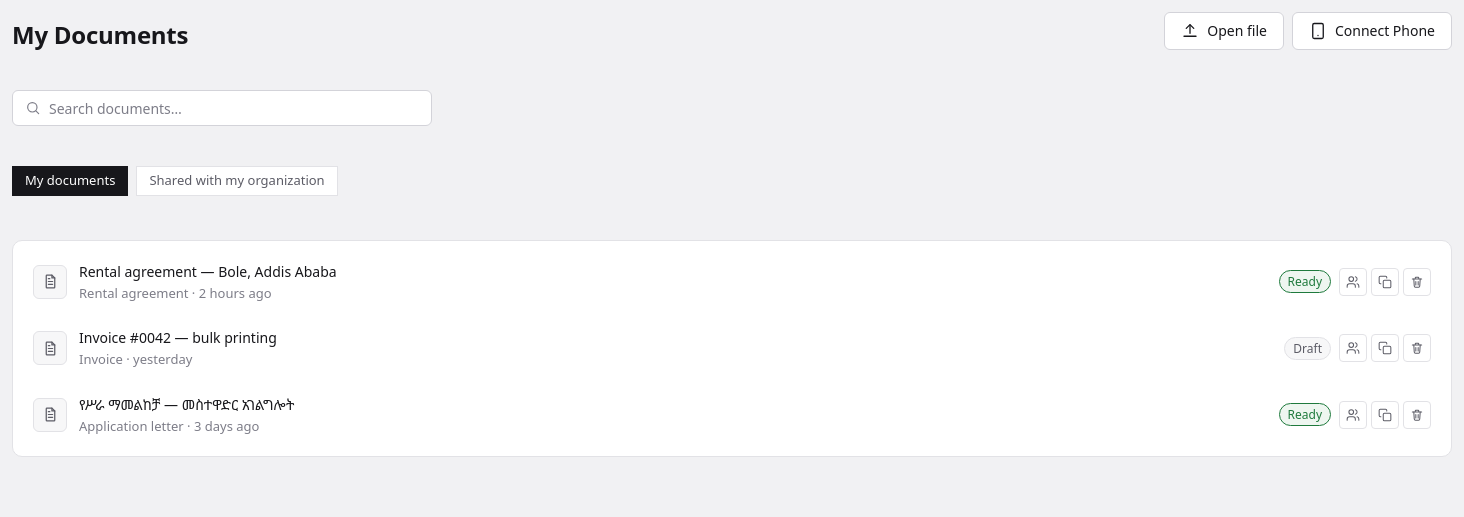
Scenario: DocumentsPage sharing › shares a document with the organization, lists it under Shared, and makes it private again
Step 1. Click the tab with test id "documents-tab-shared" → (237, 181), box [136,166,338,196]
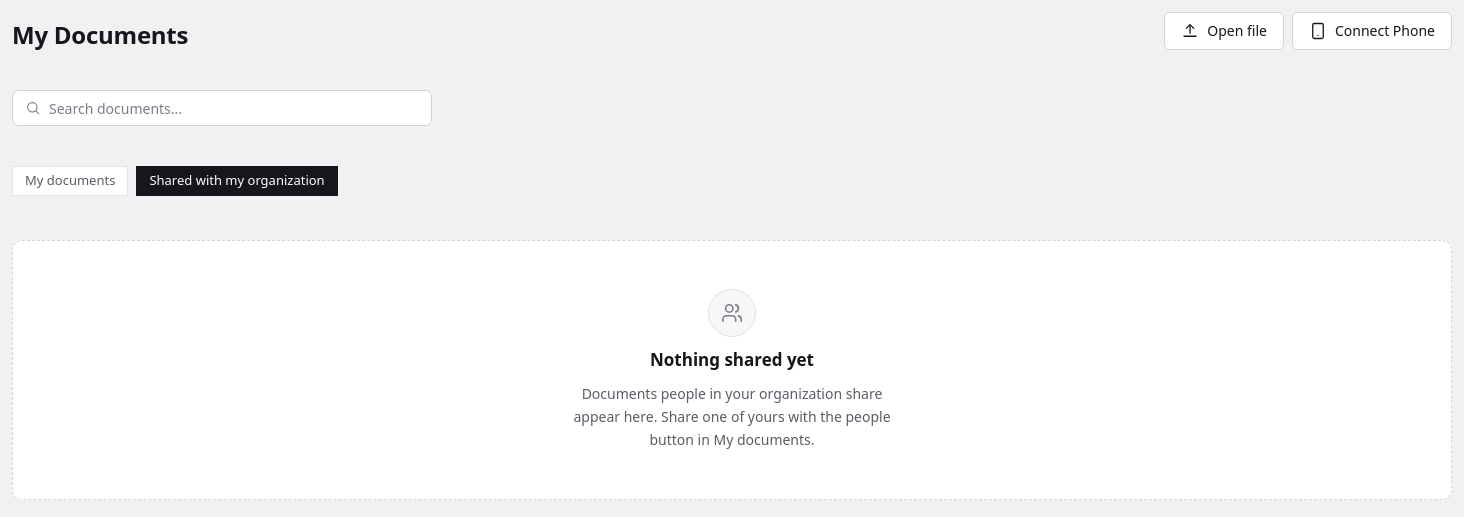
expect the heading "Nothing shared yet" is shown: met, box [650,348,814,370]
Step 2. Click the tab with test id "documents-tab-mine" → (70, 181), box [12,166,128,196]
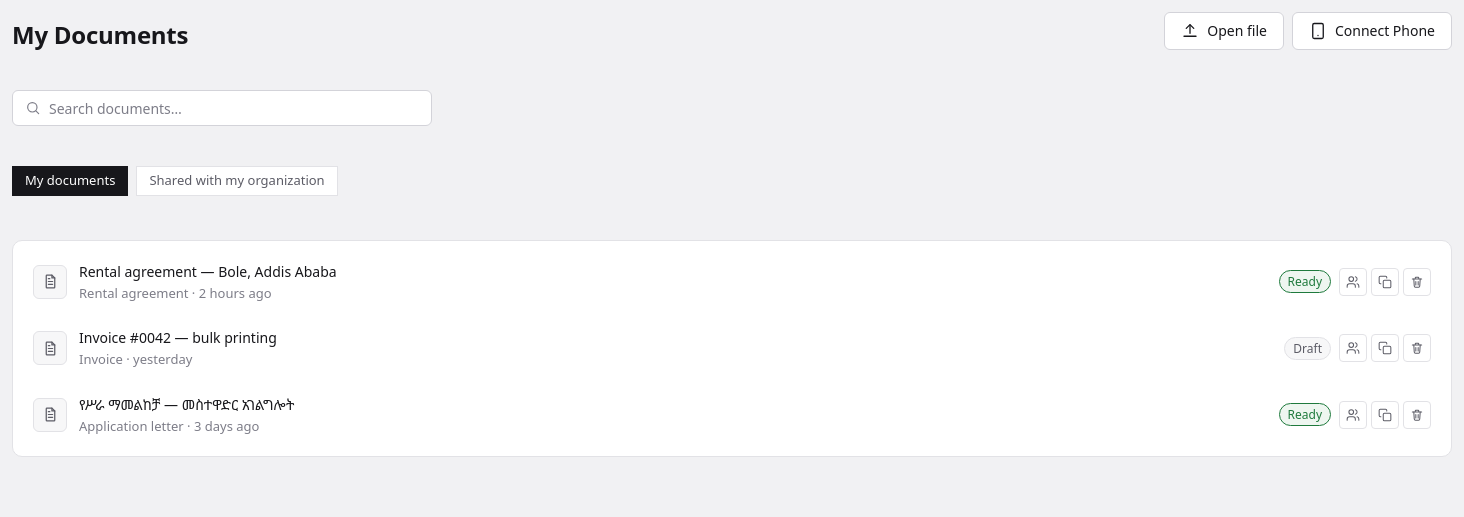
Step 3. Click the button with test id "share-doc-doc-fixture-1" → (1353, 282), box [1339,268,1367,296]
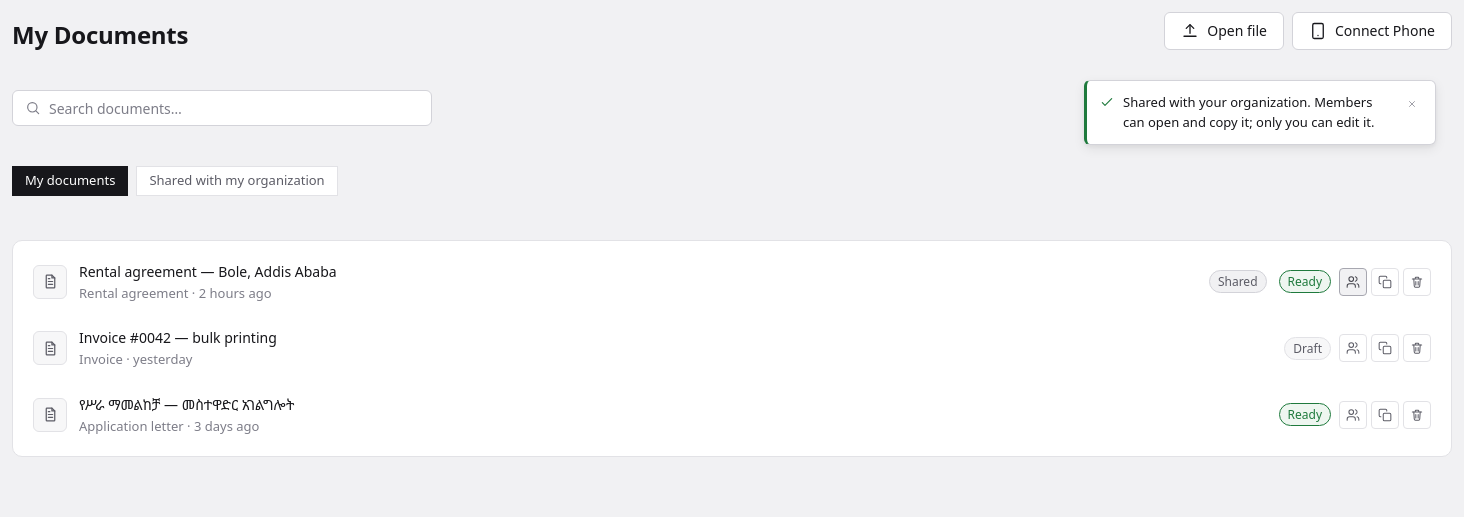
expect the text "Shared with your organization" is shown: met, box [1123,93,1374,130]
Step 4. Click the tab with test id "documents-tab-shared" → (237, 181), box [136,166,338,196]
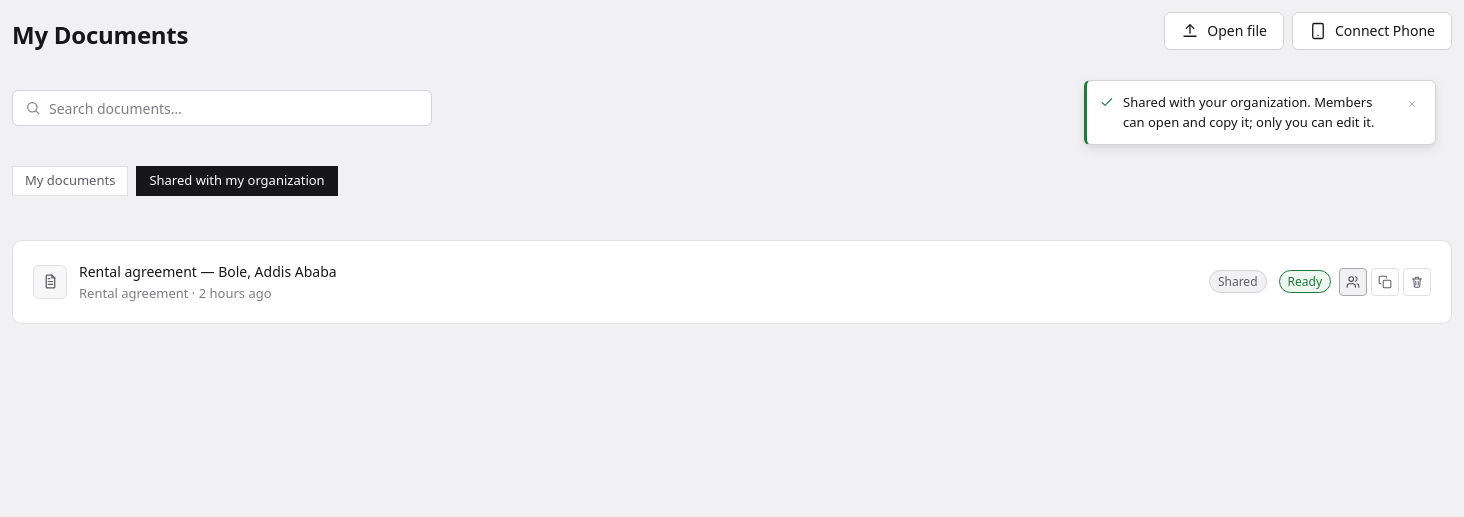
expect the text "Shared" is shown: met, box [1209,270,1266,293]
expect the number of list items is 1: met, box [25,248,1439,315]
Step 5. Click the button with test id "share-doc-doc-fixture-1" → (1353, 282), box [1339,268,1367,296]
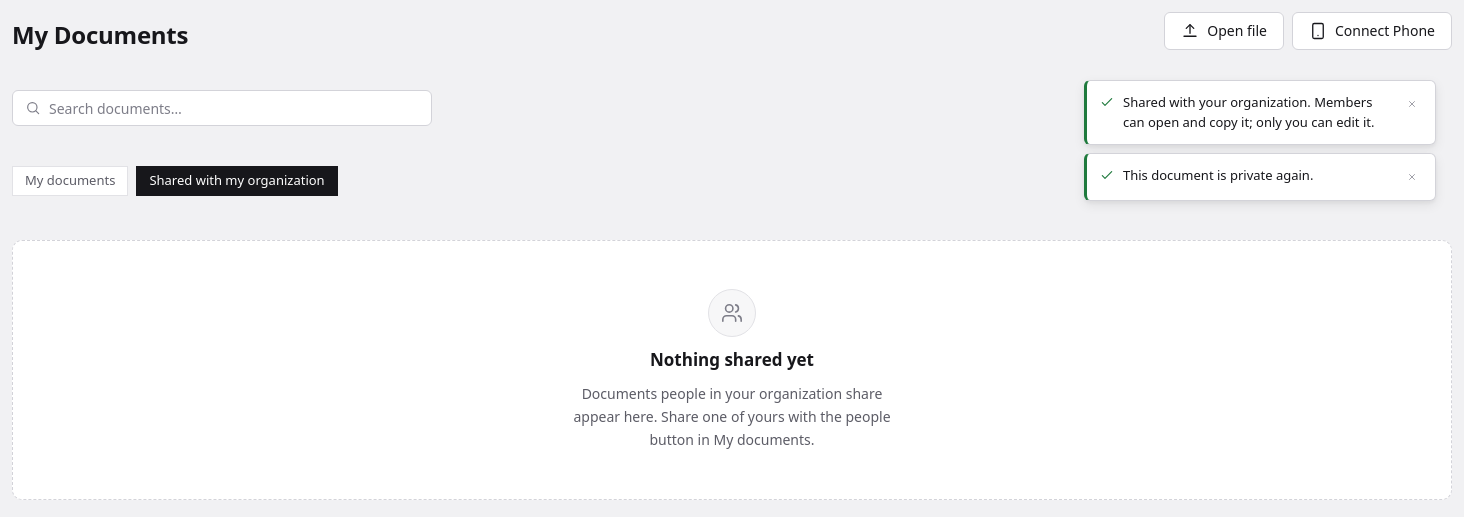
expect the text "This document is private again." is shown: met, box [1123,166,1313,184]
expect the heading "Nothing shared yet" is shown: met, box [650,348,814,370]
